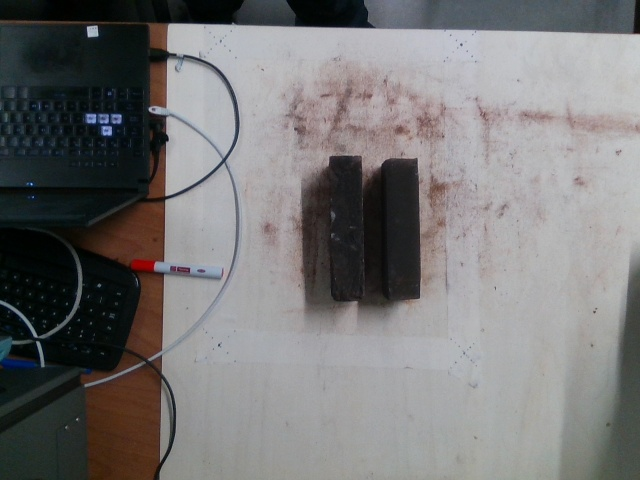brick-side: (384, 160, 421, 298), (329, 157, 364, 300)
